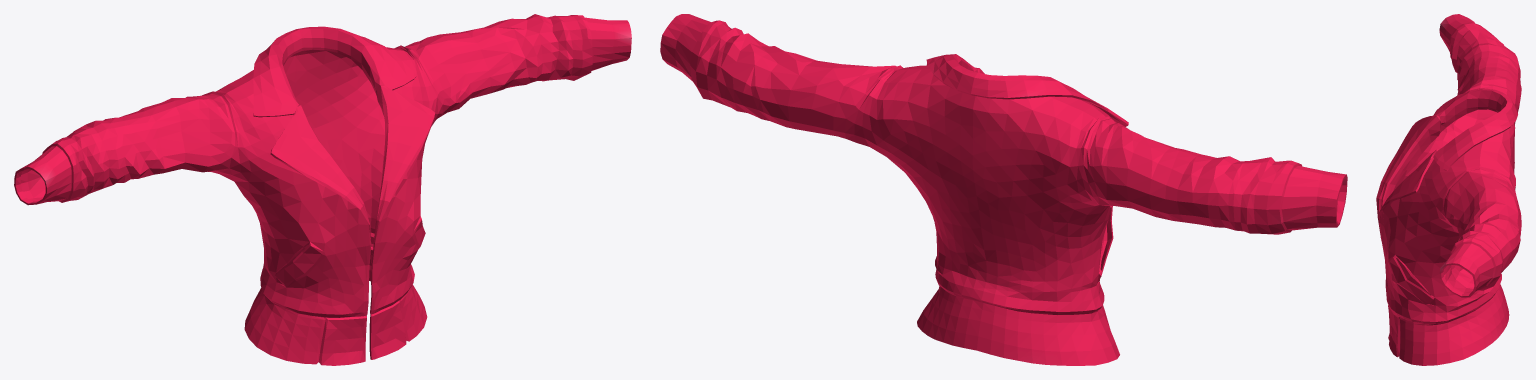
File: jacket5.OBJ
3 renders of one model, left to right at view 1: azimuth 30°, elevation 25°; view 2: azimuth 150°, elevation 25°; view 3: azimuth 270°, elevation 25°, orthographic. The views are drawn at different scales.
Parts seen in each view (by area): view 1: Mesh polySurface2 polySurface3 polySurface1; view 2: Mesh polySurface2 polySurface3 polySurface1; view 3: Mesh polySurface2 polySurface3 polySurface1.
Boxes of the visible parts, x1=… form: Mesh polySurface2 polySurface3 polySurface1: x1=14, y1=14, x2=631, y2=365; Mesh polySurface2 polySurface3 polySurface1: x1=660, y1=14, x2=1347, y2=365; Mesh polySurface2 polySurface3 polySurface1: x1=1376, y1=14, x2=1521, y2=365.
Bounding box in the file's own units: 23.99 × 10.61 × 5.83.
Materials: 1 (1 with a texture image).
